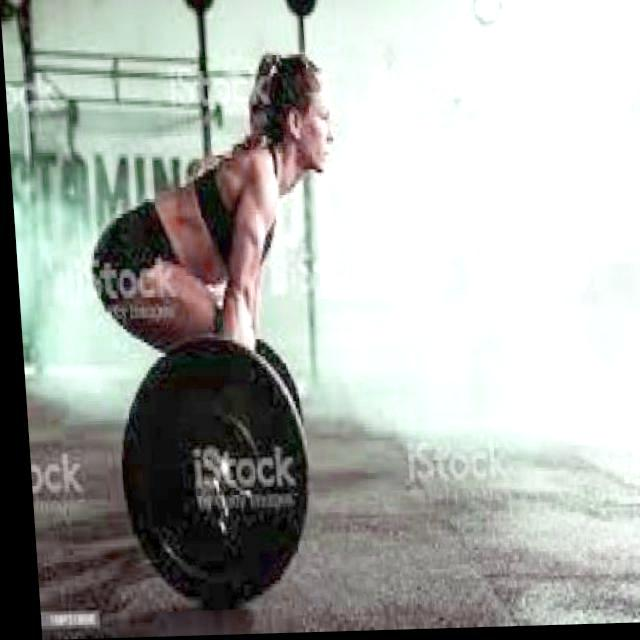barbell: (101, 330, 317, 619)
